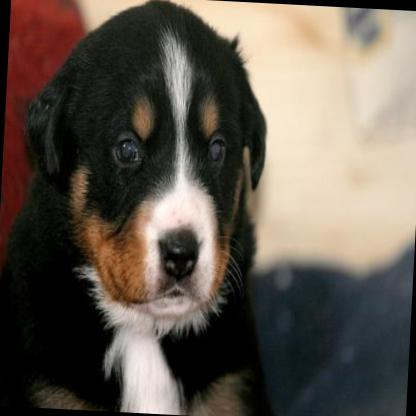Appenzeller: (0, 0, 291, 416)
